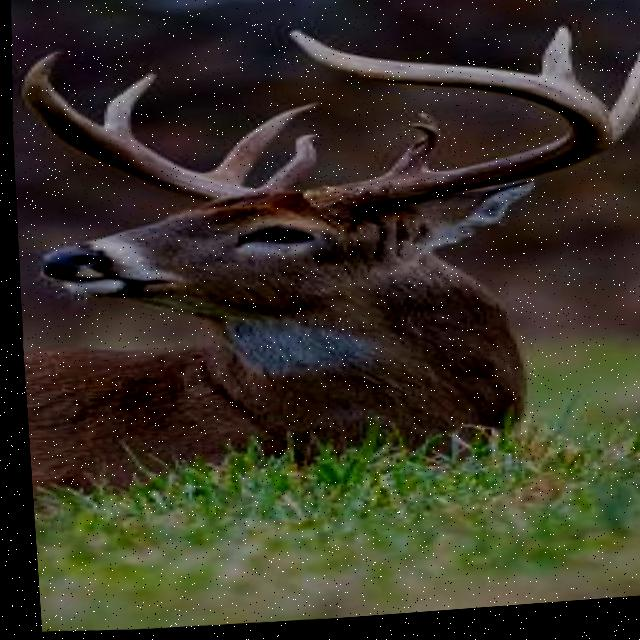L-F: (19, 50, 275, 206)
L-G1: (256, 138, 315, 196)
L-G2: (205, 105, 319, 188)
L-G3: (102, 73, 156, 140)
R-F: (285, 31, 610, 223)
R-G1: (372, 115, 439, 182)
R-G2: (608, 58, 640, 156)
R-G3: (537, 32, 581, 93)
